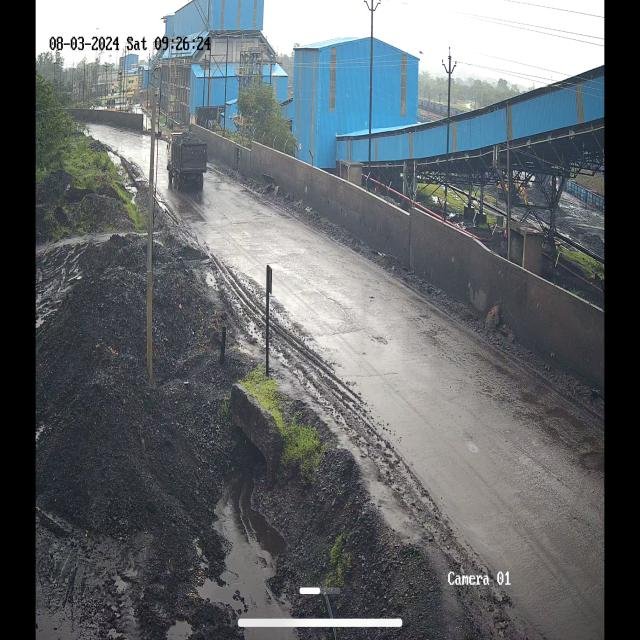dump_truck: (165, 125, 206, 190)
